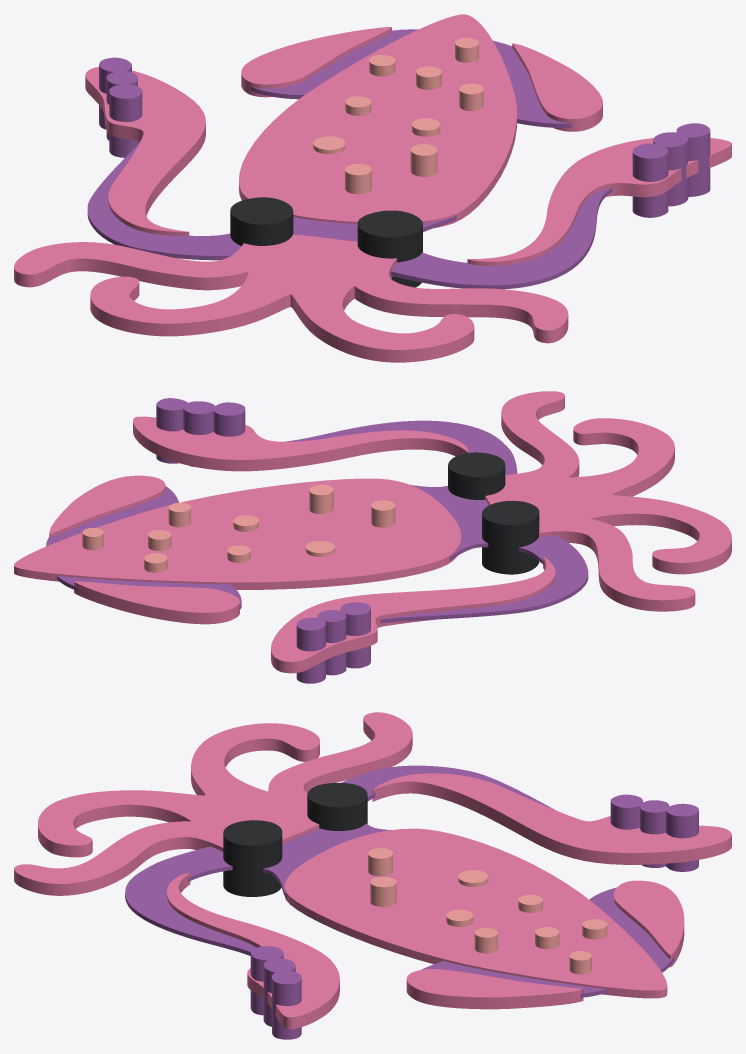
File: emoji_u1f991.glb
3 renders of one model, top to bottom at view 1: azimuth 30°, elevation 25°; view 2: azimuth 150°, elevation 25°; view 3: azimuth 270°, elevation 25°, orthographic. The views are drawn at different scales.
Parts seen in each view (by area): view 1: emoji_u1f991; view 2: emoji_u1f991; view 3: emoji_u1f991.
Boxes of the visible parts, left/top/right/bottom form: emoji_u1f991: left=14, top=14, right=731, bottom=362; emoji_u1f991: left=14, top=391, right=731, bottom=683; emoji_u1f991: left=14, top=712, right=731, bottom=1039.
Bounding box in the file's own units: 0.0331 × 0.0028 × 0.0329.
